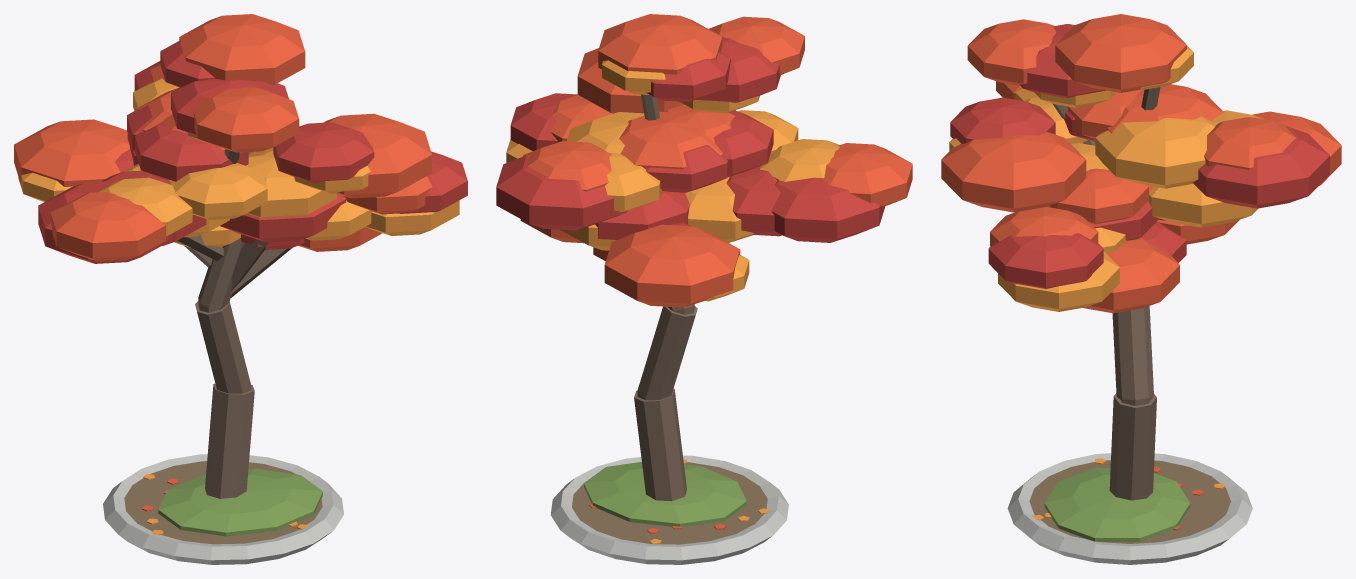
File: jp_maple.glb
3 views of the same model, side by side, from view 1: azimuth 30°, elevation 25°; view 2: azimuth 150°, elevation 25°; view 3: azimuth 270°, elevation 25° (orthographic). The views are drawn at different scales.
Parts seen in each view (by area): view 1: jp_maple; view 2: jp_maple; view 3: jp_maple.
Boxes of the visible parts, <box> form: jp_maple: <box>14,14,467,564</box>; jp_maple: <box>496,14,912,564</box>; jp_maple: <box>941,14,1341,564</box>.
Bounding box in the file's own units: 1.83 × 2.16 × 1.57.
